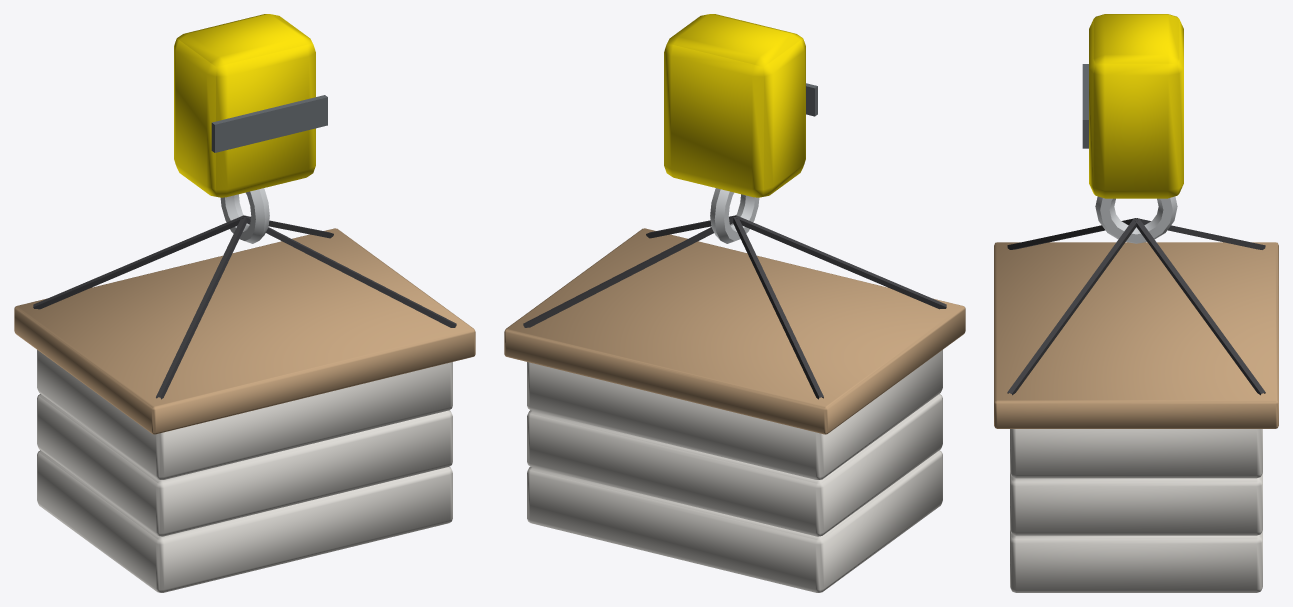
The model's file is crane_hook.glb.
The picture shows the model from 3 angles, left to right: view 1: azimuth 30°, elevation 25°; view 2: azimuth 150°, elevation 25°; view 3: azimuth 270°, elevation 25°; orthographic projection.
Parts seen in each view (by area): view 1: Body; view 2: Body; view 3: Body.
Part boxes in pixels (x1,y1,x2,y2): Body: (14, 14, 475, 592); Body: (504, 14, 965, 592); Body: (994, 14, 1278, 592).
Size of the model in its own units: 1.2 by 1.7 by 0.9.
